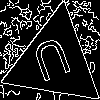U: (29, 36, 77, 92)
